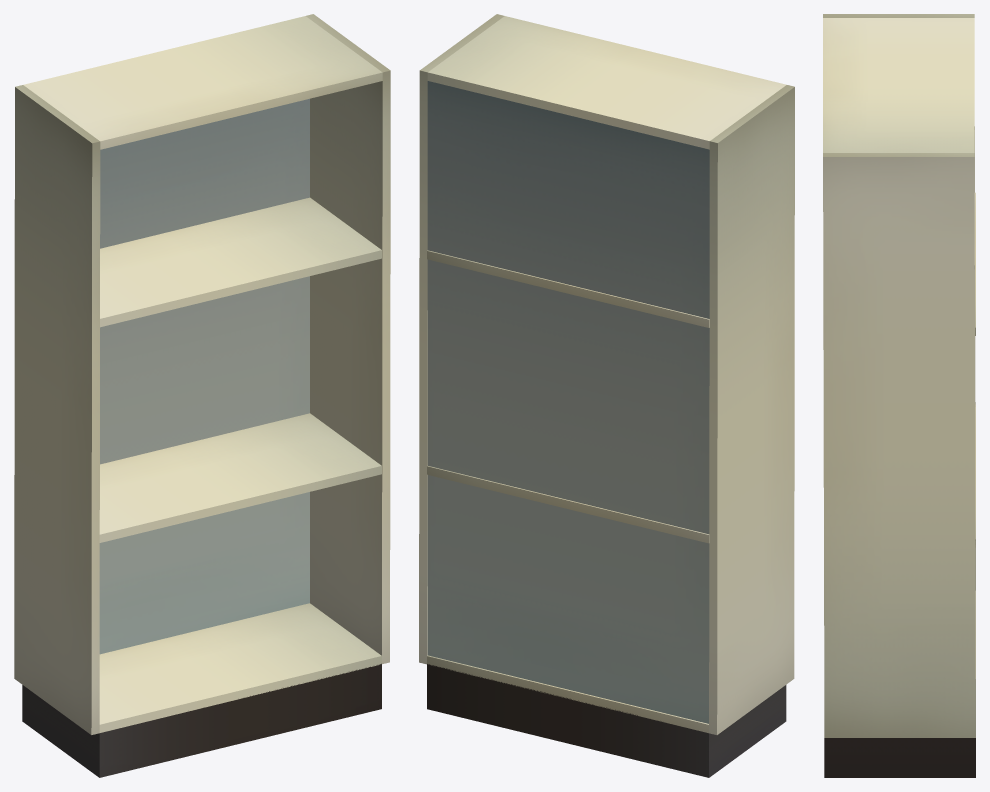
File: cabin02aba.fbx
3 renders of one model, left to right at view 1: azimuth 30°, elevation 25°; view 2: azimuth 150°, elevation 25°; view 3: azimuth 270°, elevation 25°, orthographic.
Parts seen in each view (by area): view 1: cabin02aba; view 2: cabin02aba; view 3: cabin02aba.
Part boxes in pixels (x1,y1,x2,y2): cabin02aba: [14, 14, 390, 777]; cabin02aba: [419, 14, 794, 777]; cabin02aba: [823, 14, 975, 777].
Size of the model in its own units: 0.7397 by 1.51 by 0.3345.
